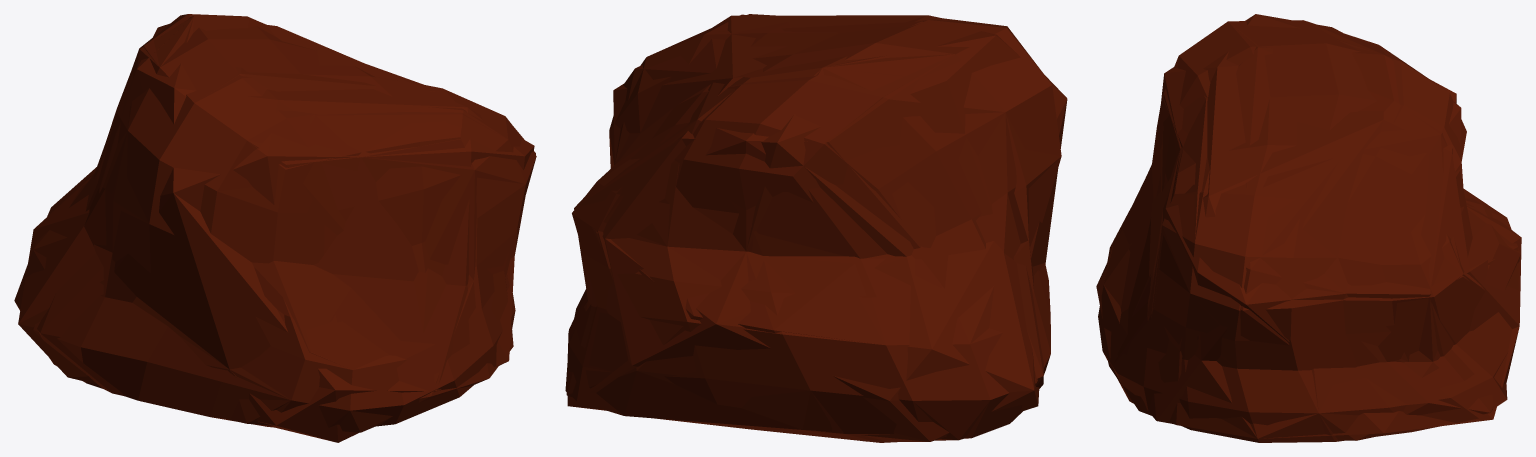
File: redRockL.fbx
The picture shows the model from 3 angles, left to right: view 1: azimuth 30°, elevation 25°; view 2: azimuth 150°, elevation 25°; view 3: azimuth 270°, elevation 25°; orthographic projection. The views are drawn at different scales.
Parts seen in each view (by area): view 1: redRockL, redRockL2, redRockL1; view 2: redRockL, redRockL1, redRockL2; view 3: redRockL, redRockL1, redRockL2.
Boxes of the visible parts, box(x1,y1,x2,y2) form: redRockL: box(14, 14, 536, 427); redRockL2: box(18, 16, 534, 442); redRockL1: box(33, 16, 535, 432); redRockL: box(565, 14, 1061, 442); redRockL1: box(566, 14, 1061, 441); redRockL2: box(567, 15, 1067, 441); redRockL: box(1098, 20, 1520, 442); redRockL1: box(1104, 20, 1518, 440); redRockL2: box(1096, 14, 1521, 438).
Bounding box in the file's own units: 222 × 157 × 196.
